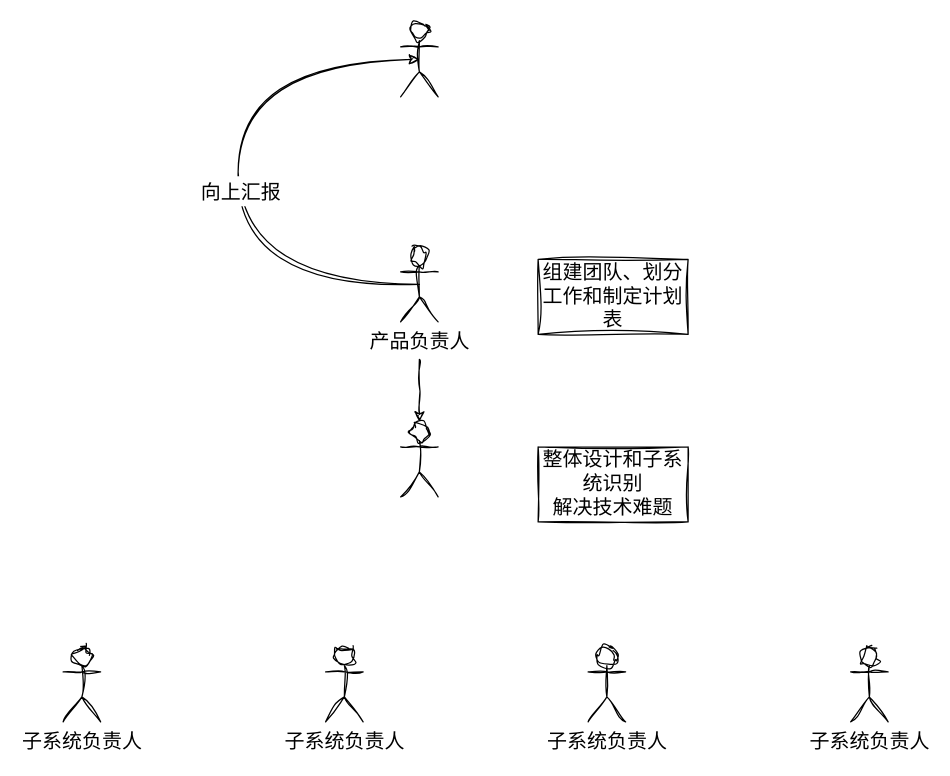
Some shapes in this 950 by 776 pixel diagram are drawn without their labels. The shapes that lost their labels are listed below. From the top down, each one's centre as x and y in pixels, then its label:
(x=418, y=59): 老板
(x=418, y=459): 技术主管
